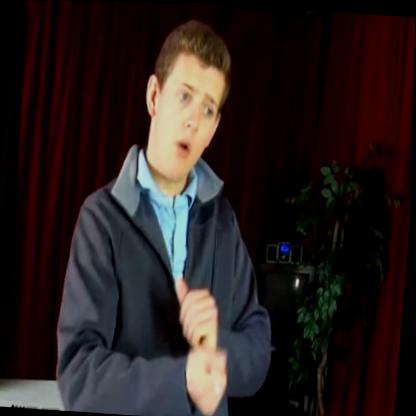HowAreYou: (167, 254, 246, 407)
